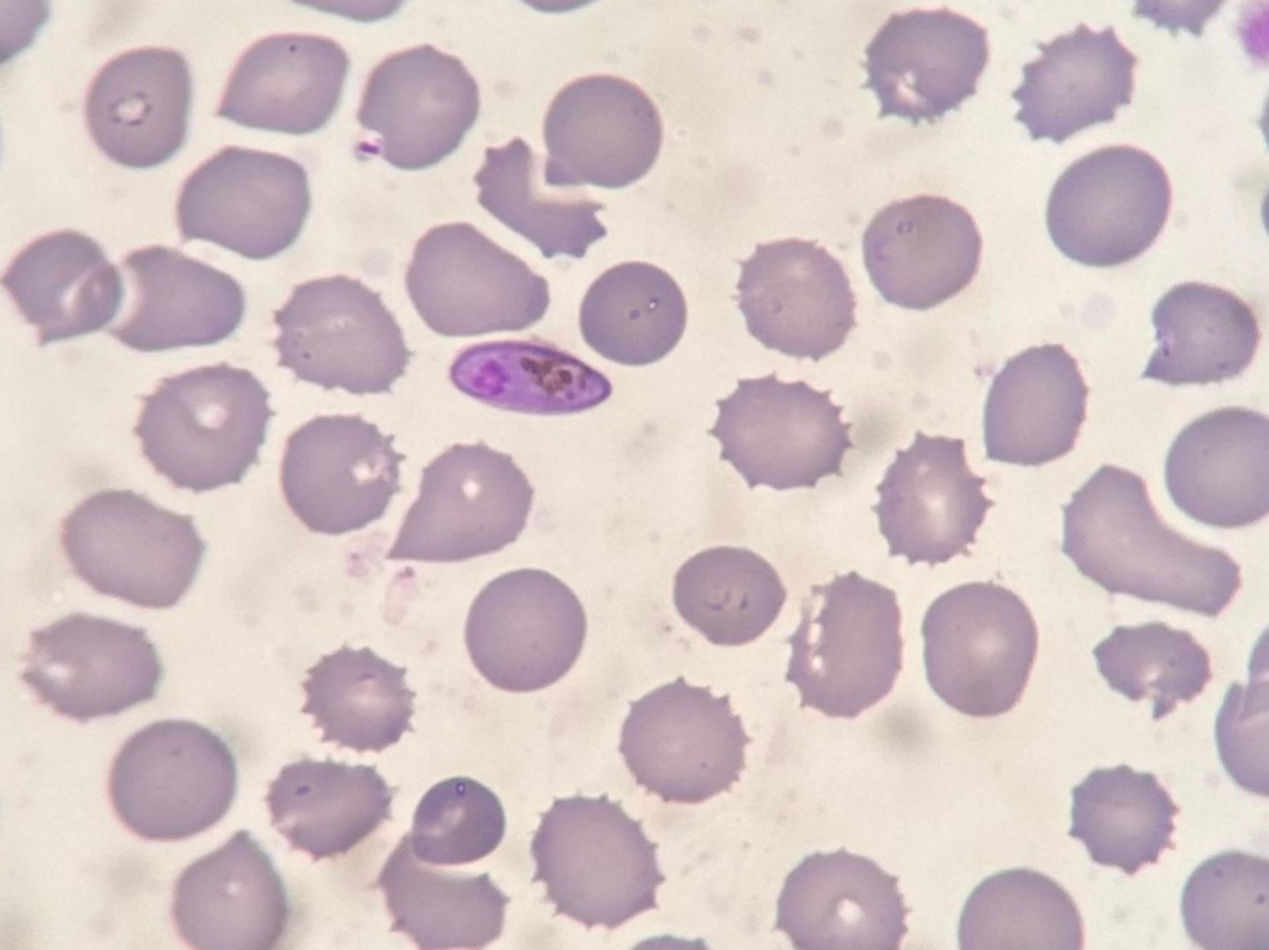Infected: (449, 337, 611, 416)
Uninfected: (1063, 468, 1242, 620), (526, 792, 666, 929), (388, 438, 532, 567), (77, 249, 249, 354), (63, 487, 204, 612), (135, 360, 267, 493), (784, 576, 906, 717), (274, 266, 407, 394), (920, 579, 1039, 721), (408, 222, 547, 343), (707, 379, 854, 490), (476, 135, 607, 258), (1047, 144, 1173, 268), (876, 430, 989, 568), (621, 681, 746, 803), (358, 43, 477, 171), (115, 718, 239, 840), (859, 10, 991, 124), (538, 79, 664, 194), (25, 610, 158, 716), (177, 157, 310, 263), (1012, 32, 1139, 143), (467, 568, 584, 688), (383, 836, 506, 950), (282, 410, 395, 534), (736, 240, 855, 356), (172, 833, 289, 950), (85, 44, 191, 171), (775, 850, 909, 950), (7, 228, 119, 346), (1163, 404, 1269, 527), (264, 758, 398, 855), (983, 343, 1086, 469), (1138, 280, 1257, 385), (300, 646, 413, 754), (1084, 624, 1213, 718), (214, 39, 344, 132), (862, 195, 972, 304), (1070, 764, 1177, 875), (582, 260, 688, 370), (674, 546, 790, 641), (959, 864, 1083, 950), (1182, 847, 1269, 950), (413, 775, 501, 864)
